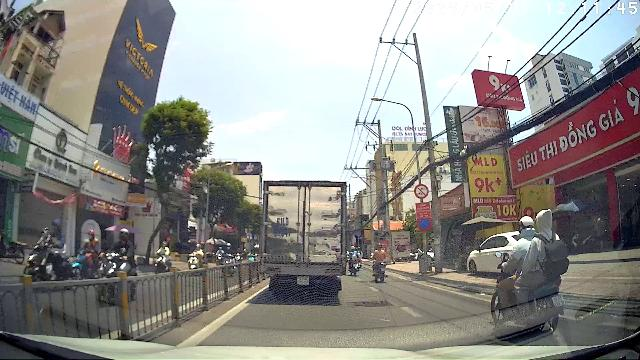131a-cam-do-xe: (418, 217, 432, 232)
